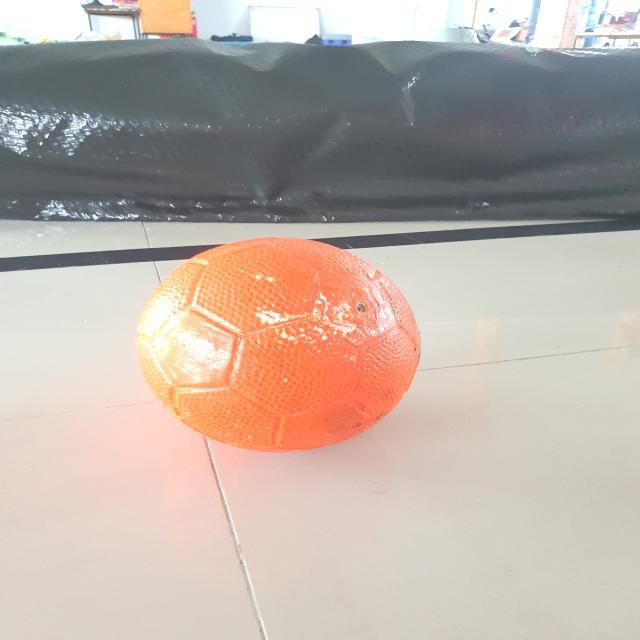bola: (128, 233, 430, 458)
